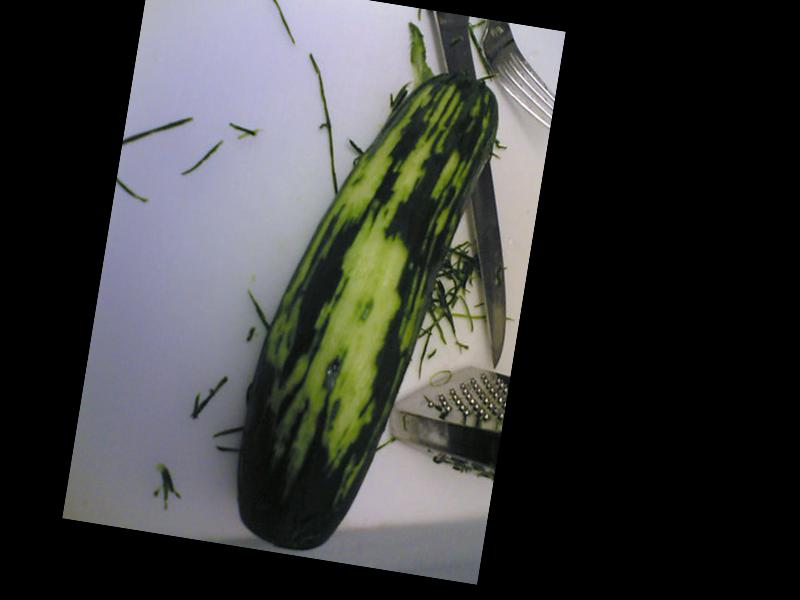Cucumber: (224, 47, 506, 571)
